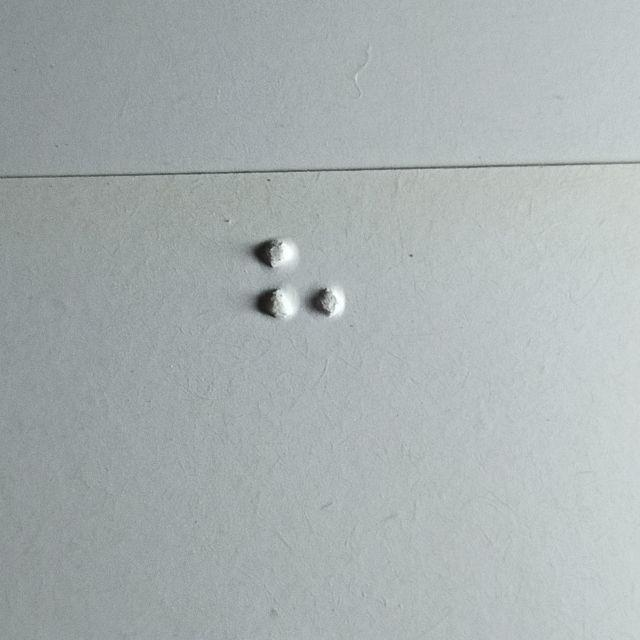hindi: (259, 236, 347, 373)
